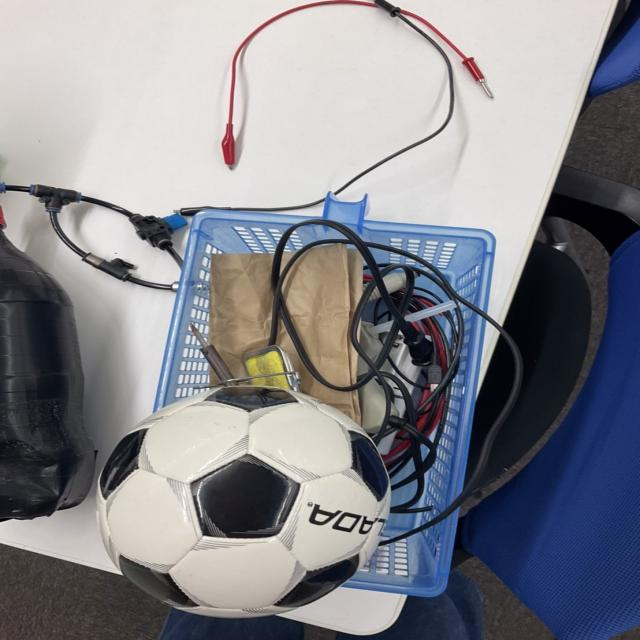ball: (97, 388, 388, 618)
